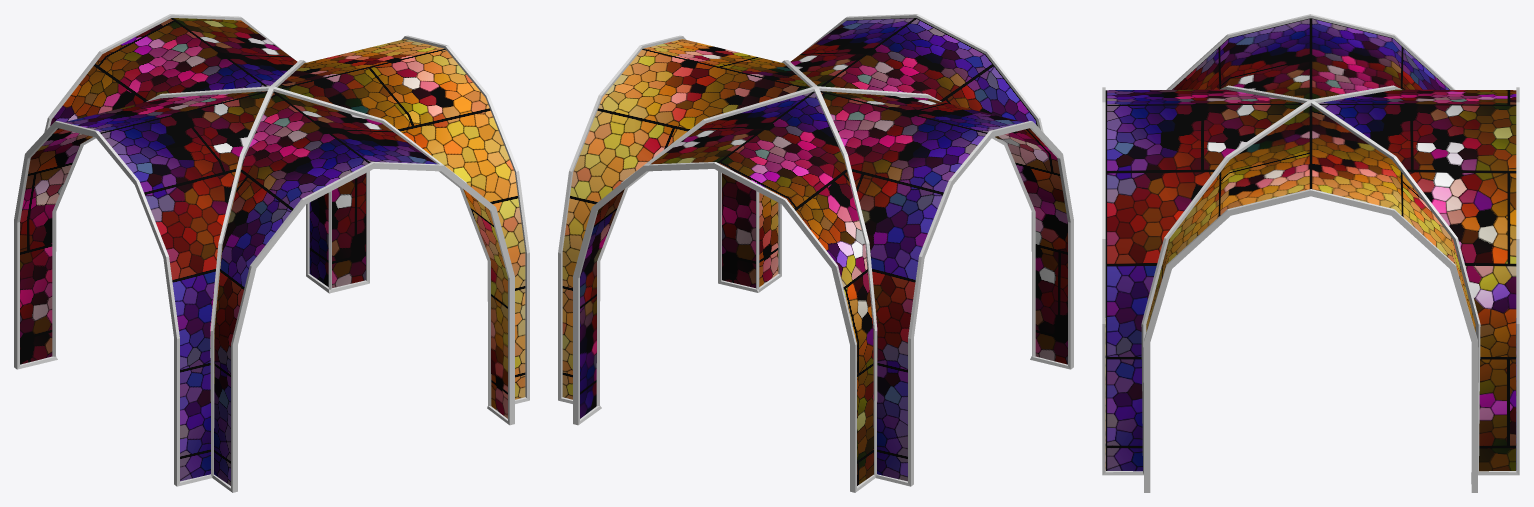
Rendered from Iron_Structure_01_Art.fbx.
3 renders of one model, left to right at view 1: azimuth 30°, elevation 25°; view 2: azimuth 150°, elevation 25°; view 3: azimuth 270°, elevation 25°, orthographic. The views are drawn at different scales.
Parts seen in each view (by area): view 1: Iron_Structure_01_Art; view 2: Iron_Structure_01_Art; view 3: Iron_Structure_01_Art.
Part boxes in pixels (x1,y1,x2,y2): Iron_Structure_01_Art: (14,14,529,492); Iron_Structure_01_Art: (558,14,1073,492); Iron_Structure_01_Art: (1102,14,1519,492).
Size of the model in its own units: 750 by 602 by 750.
